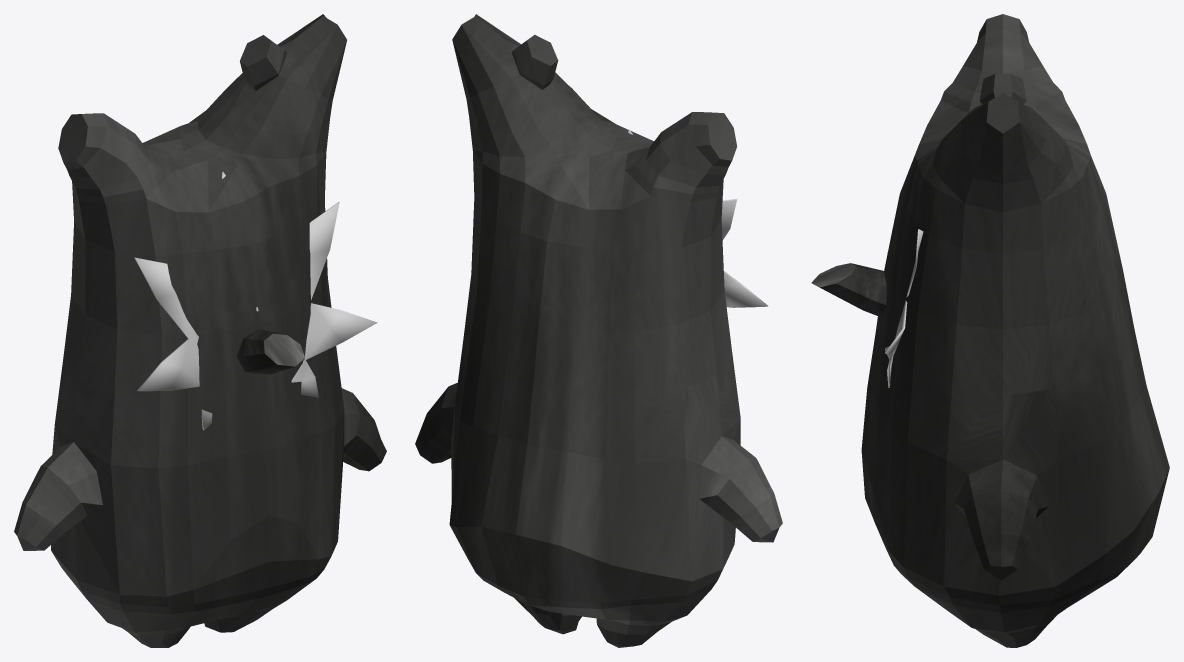
The model's file is frame_0014.obj.
3 views of the same model, side by side, from view 1: azimuth 30°, elevation 25°; view 2: azimuth 150°, elevation 25°; view 3: azimuth 270°, elevation 25° (orthographic).
Parts seen in each view (by area): view 1: korok, leaf, nose.003_柱体.011; view 2: korok, leaf; view 3: korok, nose.003_柱体.011, leaf.
Part boxes in pixels (x1,y1,x2,y2): korok: (14, 14, 386, 647); leaf: (134, 171, 377, 430); nose.003_柱体.011: (236, 329, 304, 374); korok: (415, 14, 782, 647); leaf: (628, 129, 767, 307); korok: (861, 14, 1169, 647); nose.003_柱体.011: (811, 263, 886, 317); leaf: (885, 229, 923, 387).
Size of the model in its own units: 1.61 by 2.5 by 1.36.
